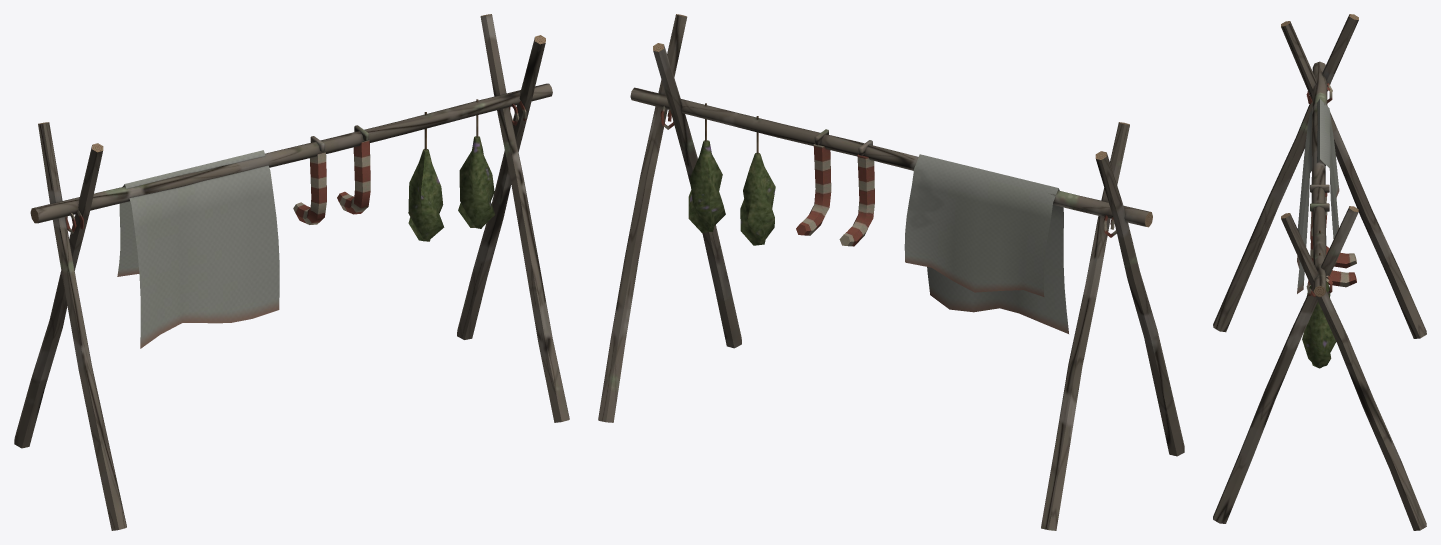
The model's file is fm_drying_rack.glb.
The picture shows the model from 3 angles, left to right: view 1: azimuth 30°, elevation 25°; view 2: azimuth 150°, elevation 25°; view 3: azimuth 270°, elevation 25°; orthographic projection. The views are drawn at different scales.
Visible parts, largest first — view 1: fm_drying_rack; view 2: fm_drying_rack; view 3: fm_drying_rack.
Boxes of the visible parts, x1=… form: fm_drying_rack: x1=14, y1=14, x2=569, y2=530; fm_drying_rack: x1=598, y1=14, x2=1184, y2=530; fm_drying_rack: x1=1213, y1=14, x2=1426, y2=530.
Size of the model in its own units: 2 by 1.32 by 0.8098.
1 material, 1 textured.
